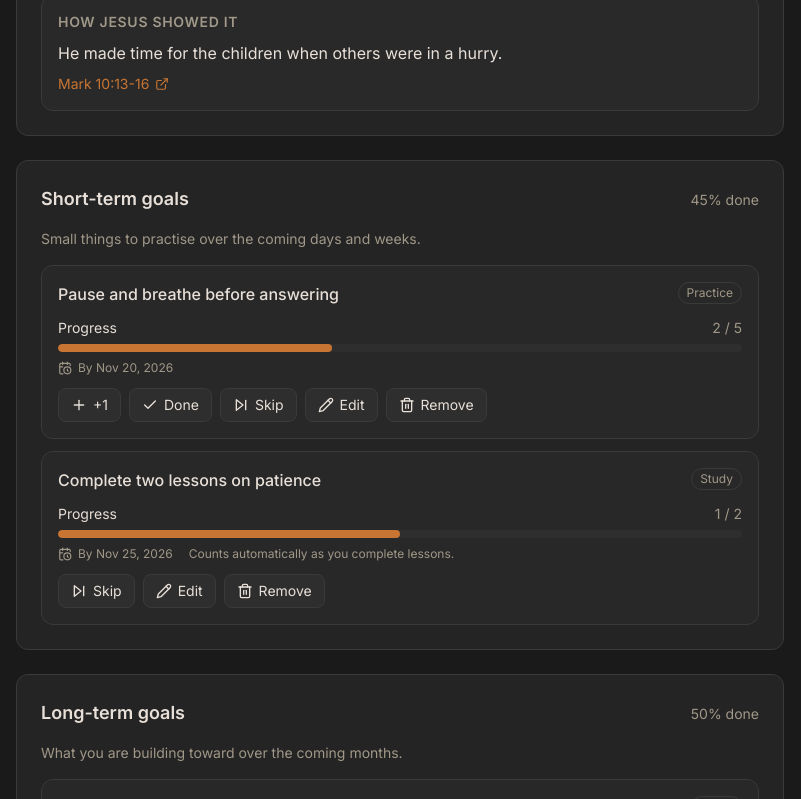
Test case: GrowthPlanPage › adds one to a manual goal, and offers no +1 on an automatic goal
This screenshot has width=801, height=799.
(page scrolled)
Expected: the text "Counts automatically as you complete lessons." is shown, [189,546,454,562]
Click the button named "Add one to “Pause and breathe before answering”": (90, 405) [58,388,121,422]
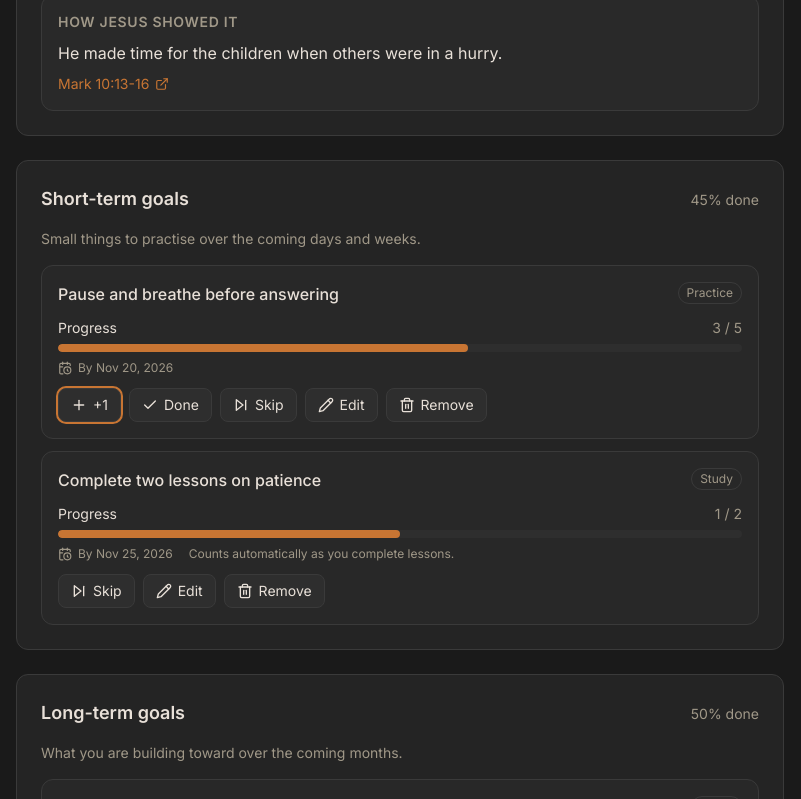
Expected: the text "3 / 5" is shown, [712,318,742,338]
